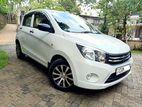car: (14, 9, 133, 93)
